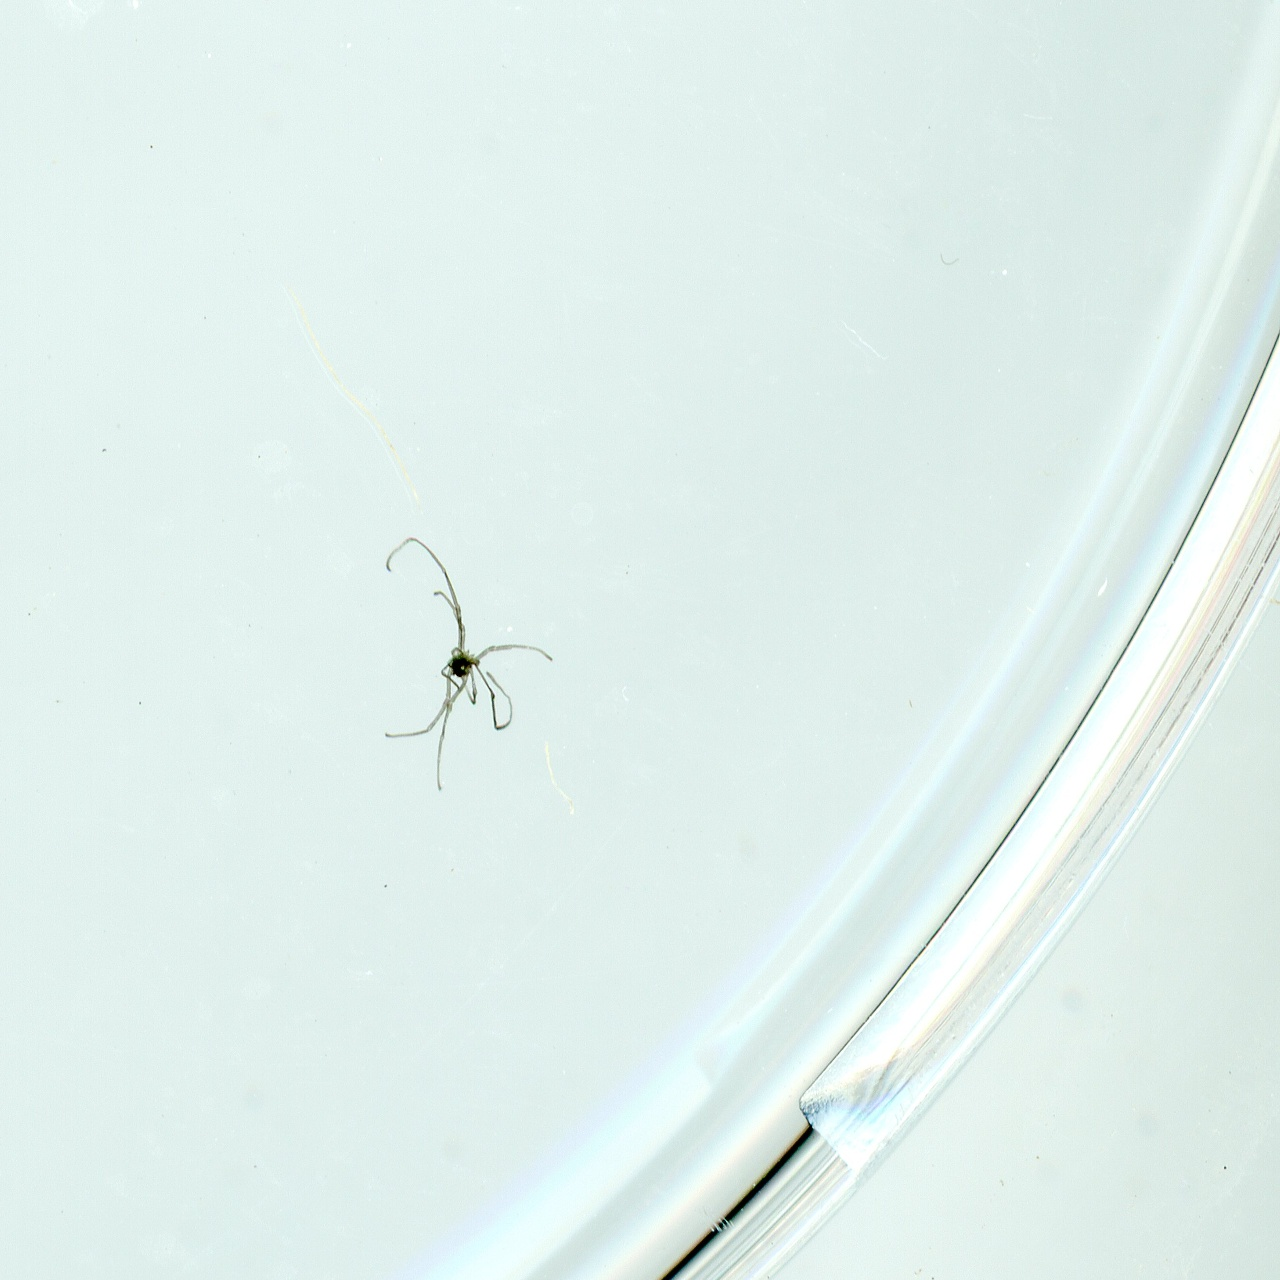arthropod: (372, 502, 561, 796)
